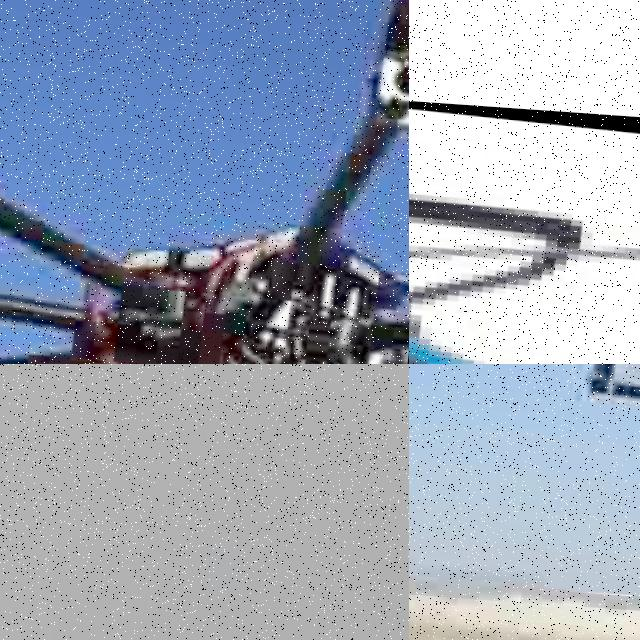drone: (0, 0, 409, 364), (409, 85, 640, 364), (543, 364, 640, 619)
